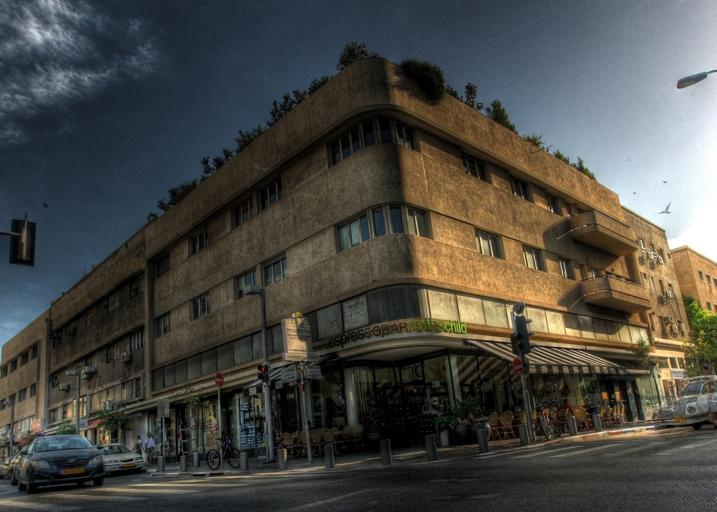non-vehicle: (205, 433, 239, 469), (539, 407, 561, 440)
